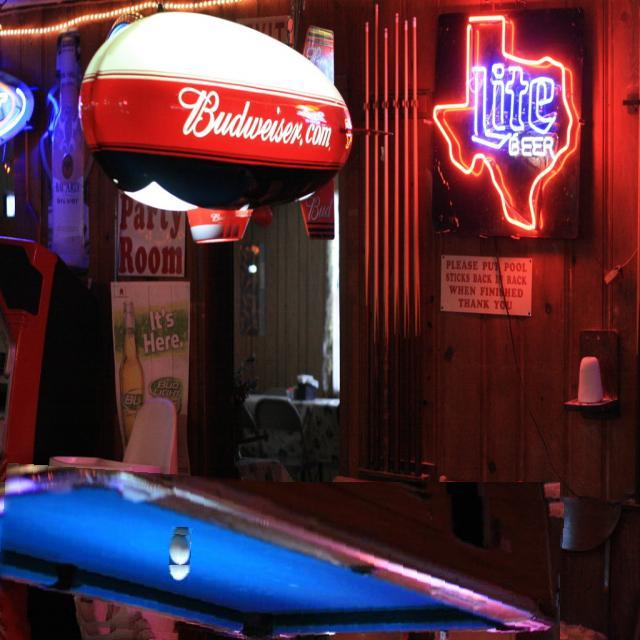Ball: (169, 534, 190, 565)
Billiard table: (0, 472, 562, 640)
